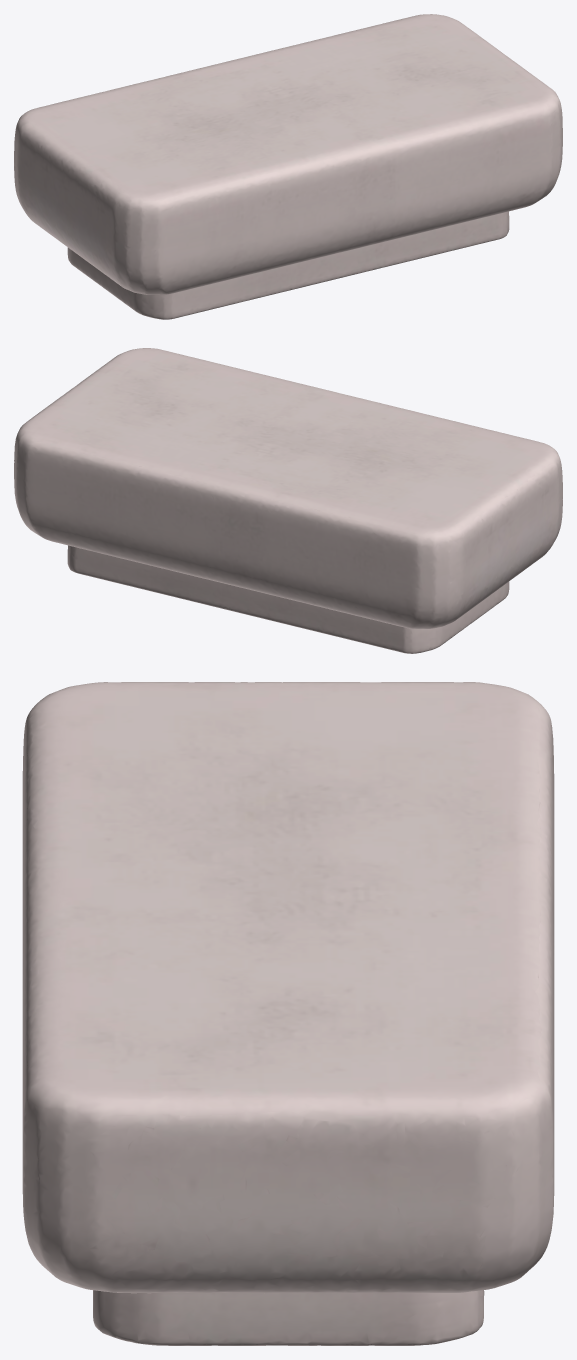
Rendered from terra_coffee_table_original_backup.glb.
The picture shows the model from 3 angles, top to bottom: view 1: azimuth 30°, elevation 25°; view 2: azimuth 150°, elevation 25°; view 3: azimuth 270°, elevation 25°; orthographic projection. The views are drawn at different scales.
Parts seen in each view (by area): view 1: world; view 2: world; view 3: world.
Part boxes in pixels (x1,y1,x2,y2): world: [14, 14, 562, 319]; world: [14, 348, 562, 653]; world: [22, 682, 554, 1345].
Bounding box in the file's own units: 1 × 0.3013 × 0.5203.
1 material, 1 textured.
